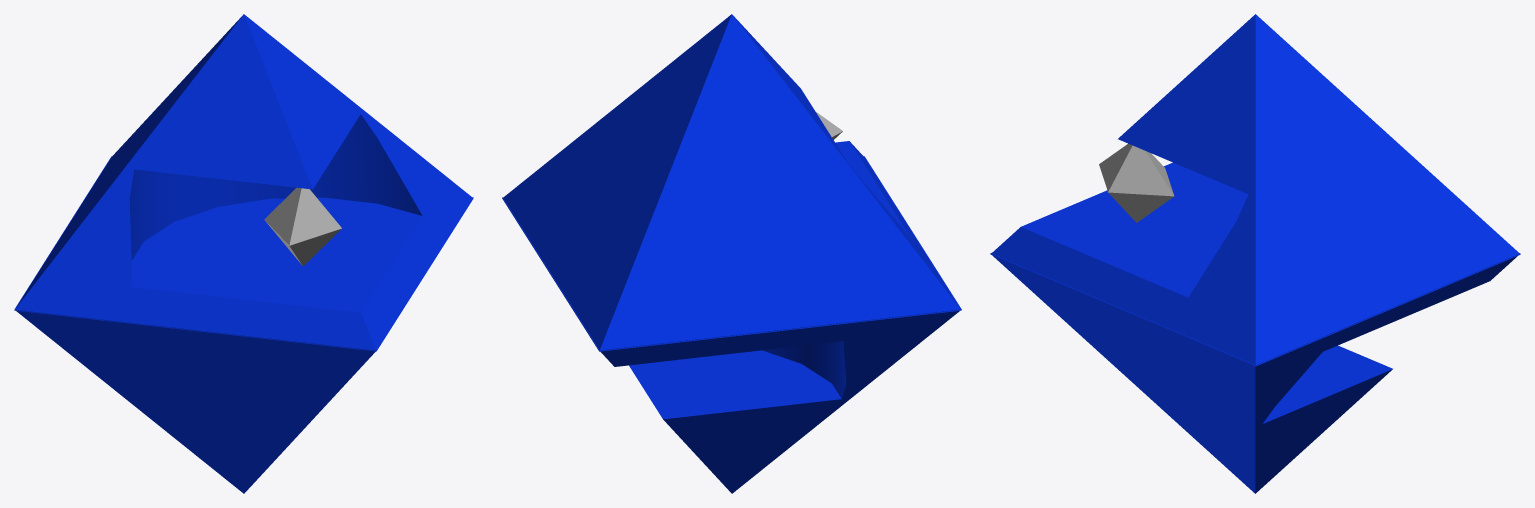
File: Cubekun.fbx
3 views of the same model, side by side, from view 1: azimuth 30°, elevation 25°; view 2: azimuth 150°, elevation 25°; view 3: azimuth 270°, elevation 25° (orthographic).
Parts seen in each view (by area): view 1: polySurface1, polySurface2, pPyramid4; view 2: polySurface1, polySurface2; view 3: polySurface1, polySurface2, pPyramid4.
Boxes of the visible parts, box(x1,y1,x2,y2) form: polySurface1: box(14, 14, 473, 351); polySurface2: box(14, 156, 473, 493); pPyramid4: box(264, 187, 341, 266); polySurface1: box(502, 14, 961, 351); polySurface2: box(502, 156, 961, 493); polySurface1: box(990, 14, 1520, 366); polySurface2: box(990, 253, 1520, 493); pPyramid4: box(1099, 143, 1174, 222).
Size of the model in its own units: 1.67 by 1.67 by 1.67.
